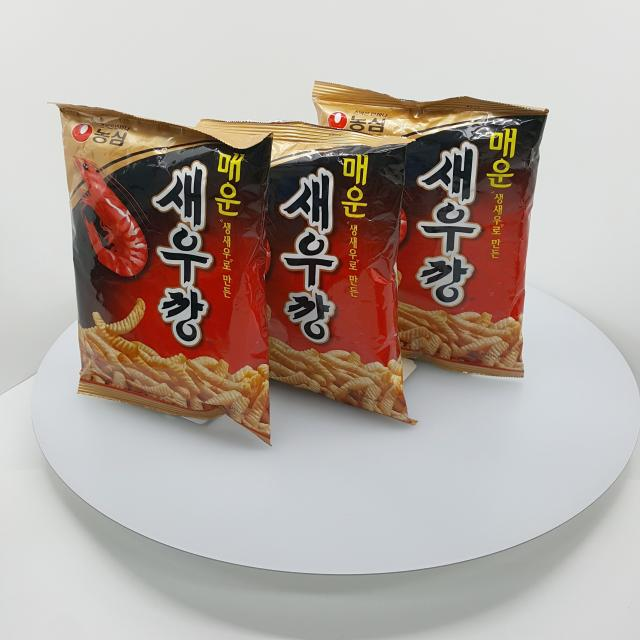-90G: (46, 103, 275, 449), (313, 81, 551, 379), (192, 119, 420, 427)
